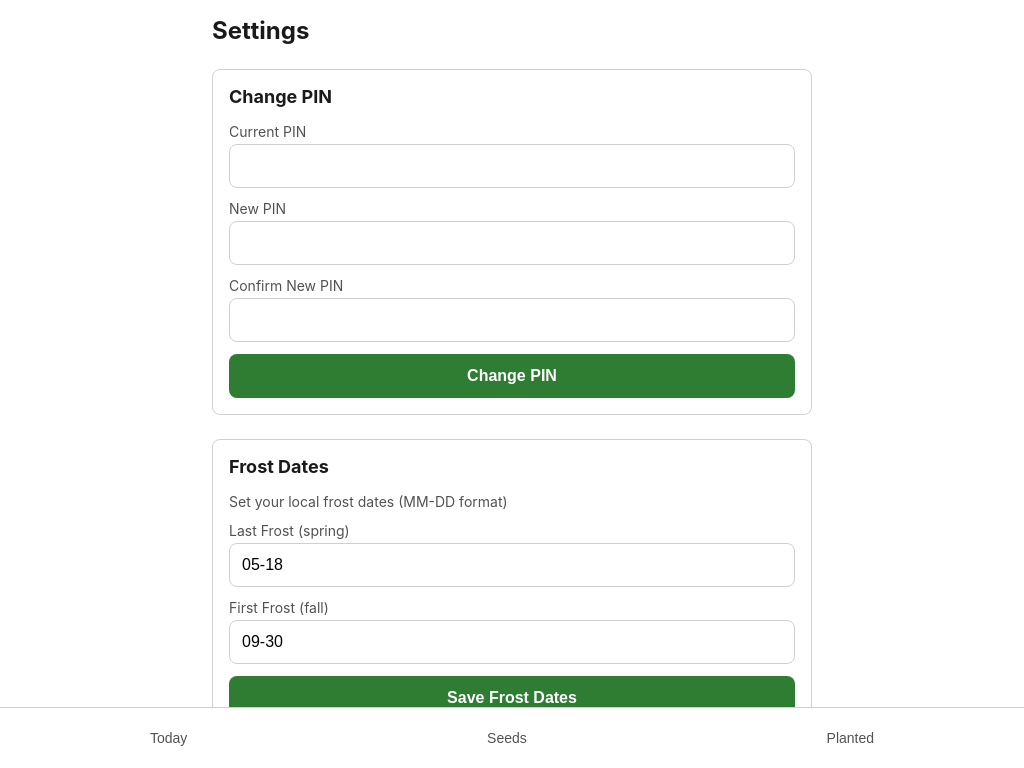
Test: Settings page › rejects PIN change with wrong current PIN
Expected: the heading "Settings" is shown, [212, 16, 309, 45]
In the password field labelled "Current PIN": (512, 166) [229, 144, 795, 188], type "0000"
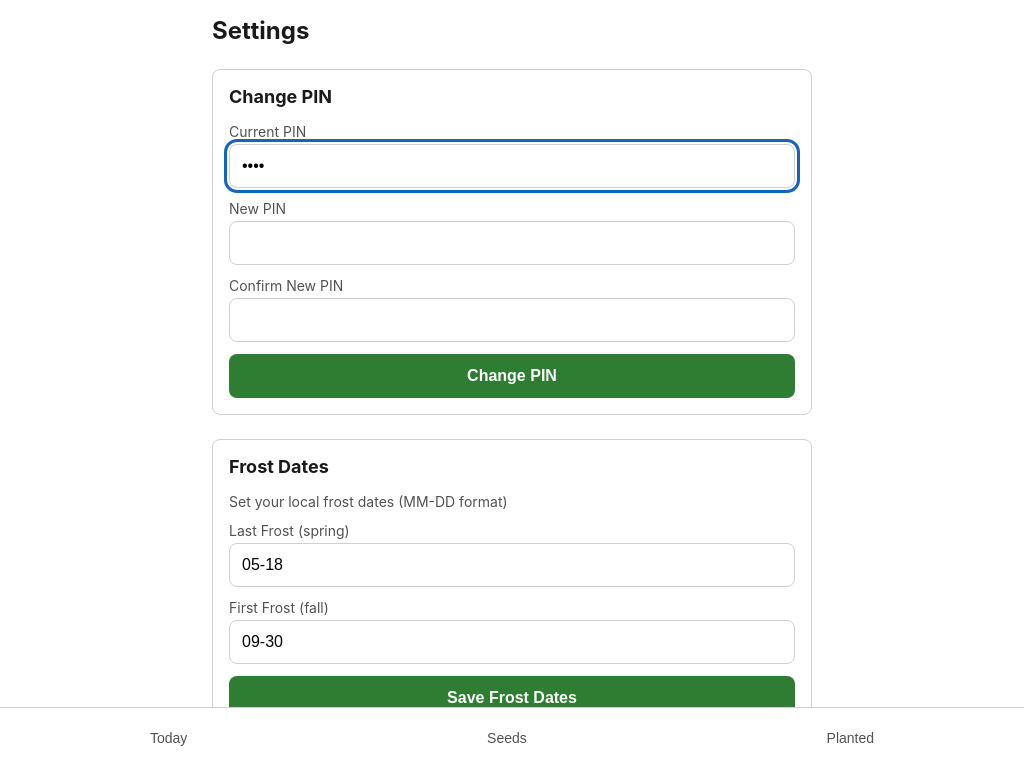
In the password field labelled "New PIN": (512, 243) [229, 221, 795, 265], type "9999"
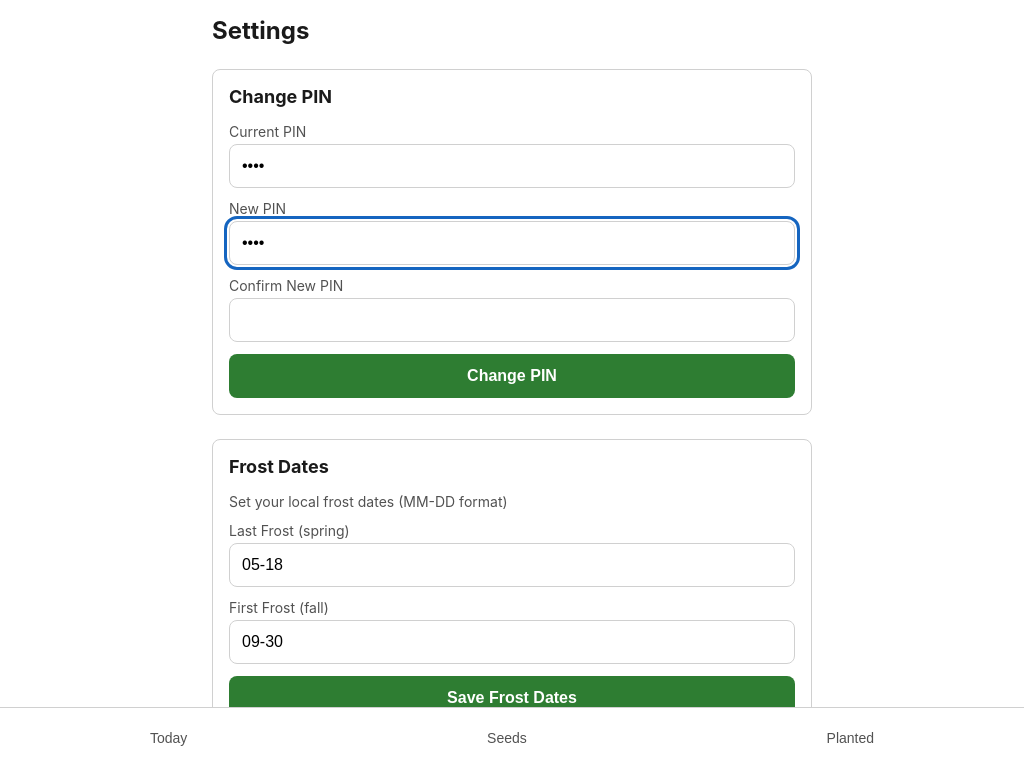
In the password field labelled "Confirm New PIN": (512, 320) [229, 298, 795, 342], type "9999"
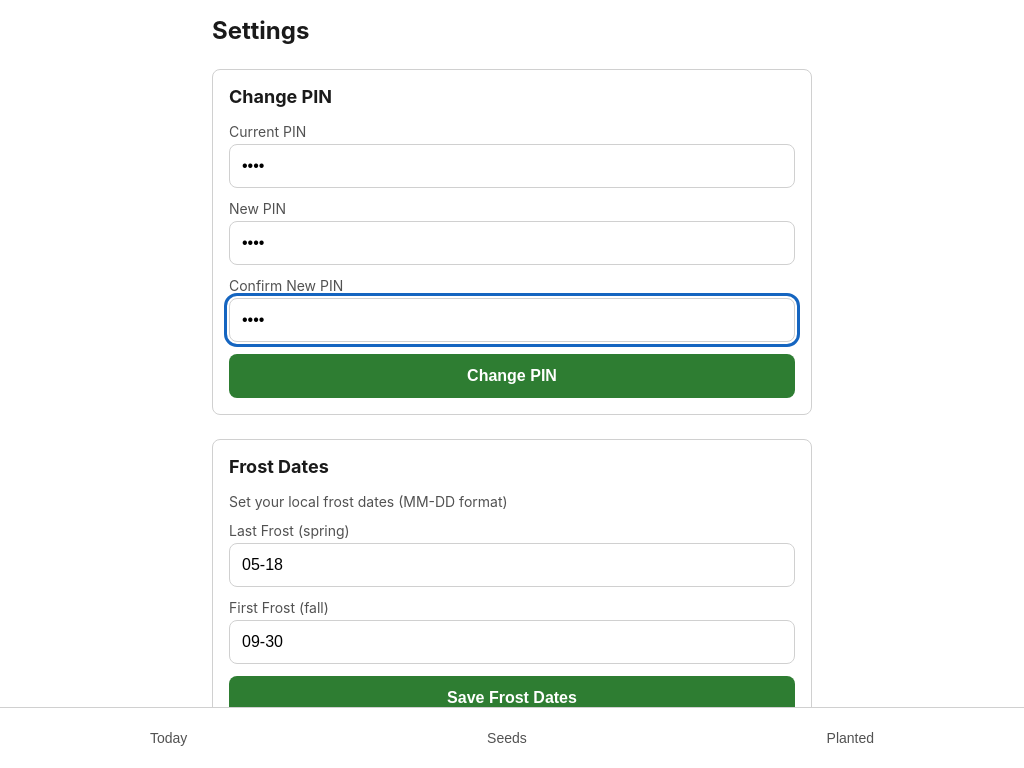
Click the button "Change PIN": (512, 376) [229, 354, 795, 398]
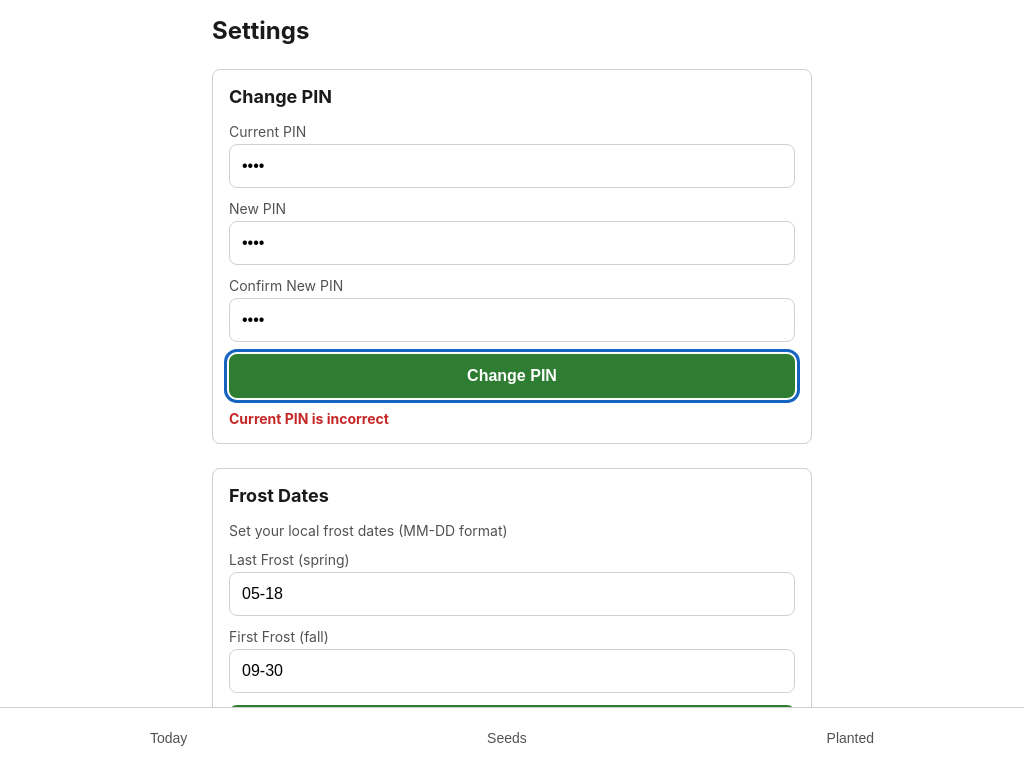
Expected: the message reads "Current PIN is incorrect", [229, 410, 389, 427]
